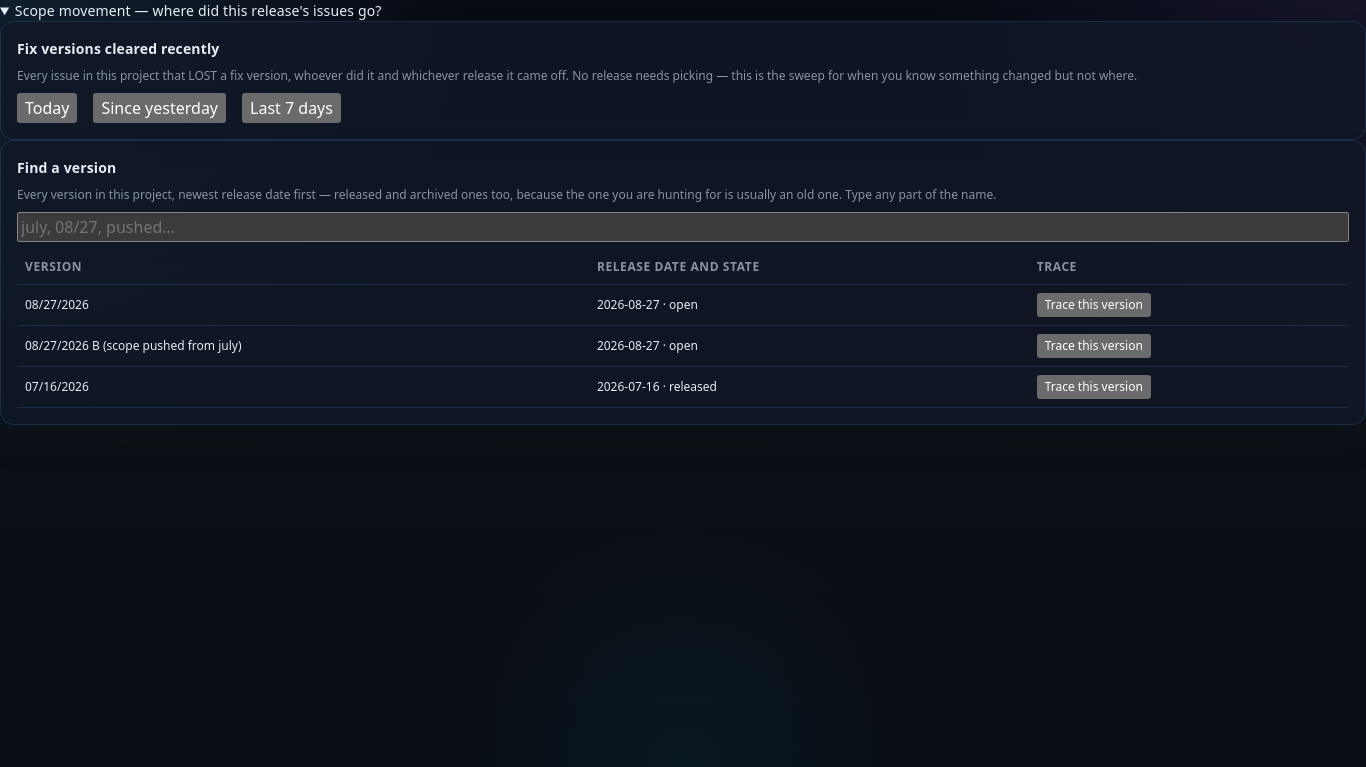
Test case: VersionMovementPanel — who took the version off › names the person and the moment, which is usually the whole answer
This screenshot has width=1366, height=767.
Click the 1st button "Trace this version": (1094, 305) [1037,293,1151,317]
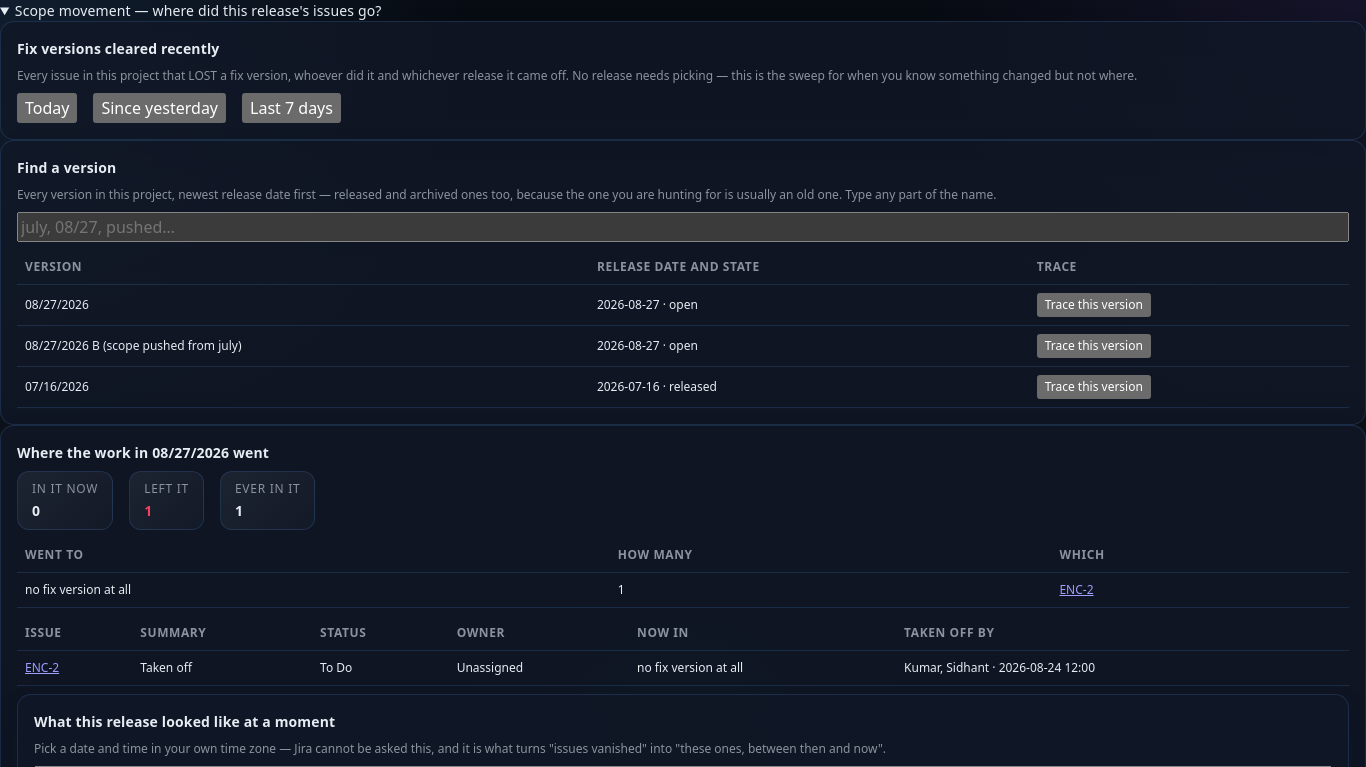
Result: the text "Kumar, Sidhant · 2026-08-24 12:00" is shown at [896,650,1349,686]
